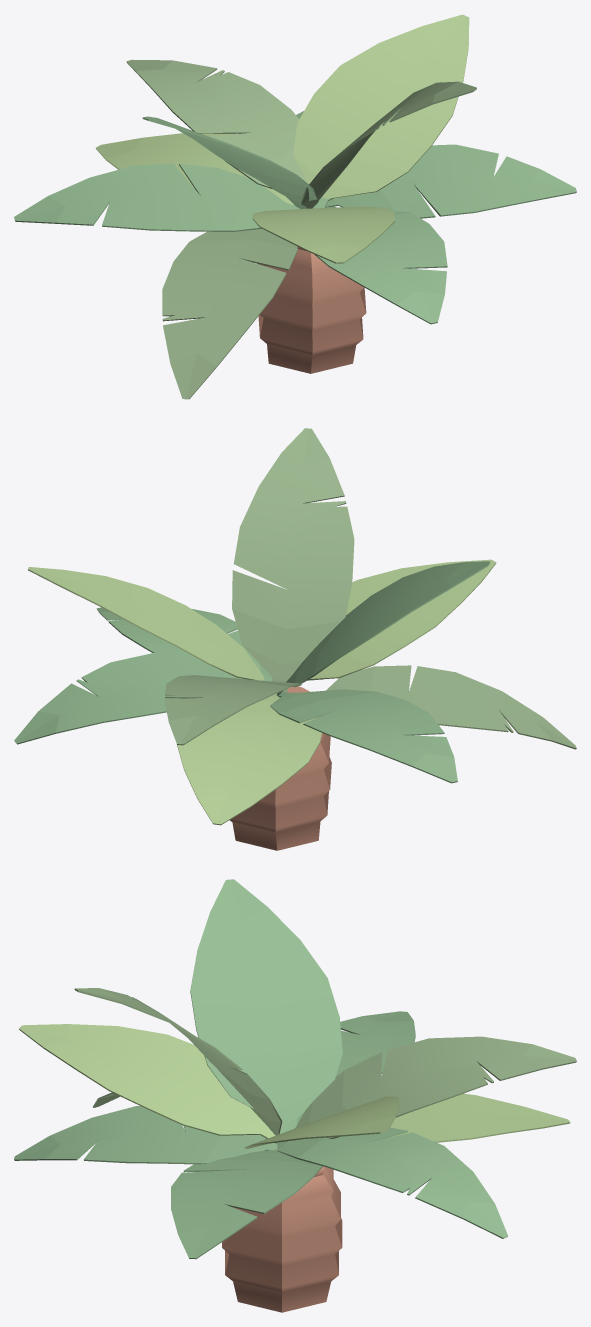
File: palmtreeSmall1.fbx
3 views of the same model, one above another, from view 1: azimuth 30°, elevation 25°; view 2: azimuth 150°, elevation 25°; view 3: azimuth 270°, elevation 25° (orthographic). The views are drawn at different scales.
Parts seen in each view (by area): view 1: pPlane362, pPlane364, pPlane360, pPlane356, pPlane358, pCylinder110, pPlane366, pPlane357, pPlane365, pPlane361, pPlane359; view 2: pPlane361, pPlane365, pPlane360, pPlane363, pPlane364, pPlane362, pPlane359, pCylinder110, pPlane357, pPlane356, pPlane358; view 3: pPlane359, pPlane357, pCylinder110, pPlane356, pPlane363, pPlane358, pPlane366, pPlane365, pPlane360, pPlane361, pPlane362.
Part boxes in pixels (x1,y1,x2,y2): pPlane362: (293, 14, 469, 198); pPlane364: (162, 229, 297, 399); pPlane360: (14, 163, 299, 231); pPlane356: (126, 59, 307, 208); pPlane358: (326, 144, 576, 218); pCylinder110: (257, 246, 366, 373); pPlane366: (314, 206, 447, 324); pPlane357: (252, 206, 395, 263); pPlane365: (96, 133, 294, 205); pPlane361: (300, 81, 476, 208); pPlane359: (142, 116, 318, 208); pPlane361: (232, 428, 354, 692); pPlane365: (177, 693, 321, 825); pPlane360: (270, 689, 457, 783); pPlane363: (14, 652, 290, 744); pPlane364: (326, 665, 576, 749); pPlane362: (28, 567, 264, 680); pPlane359: (277, 561, 490, 695); pCylinder110: (230, 686, 331, 850); pPlane357: (308, 559, 496, 679); pPlane356: (164, 675, 301, 745); pPlane358: (96, 607, 260, 671); pPlane359: (190, 879, 342, 1133); pPlane357: (19, 1024, 276, 1143); pCylinder110: (222, 1166, 342, 1312); pPlane356: (295, 1036, 576, 1138); pPlane363: (265, 1127, 507, 1238); pPlane358: (171, 1149, 322, 1259); pPlane366: (14, 1106, 277, 1164); pPlane365: (386, 1093, 570, 1142); pPlane360: (297, 1011, 415, 1124); pPlane361: (74, 988, 282, 1135); pPlane362: (244, 1096, 399, 1148).
Size of the model in its own units: 10.1 by 6.66 by 10.12.
